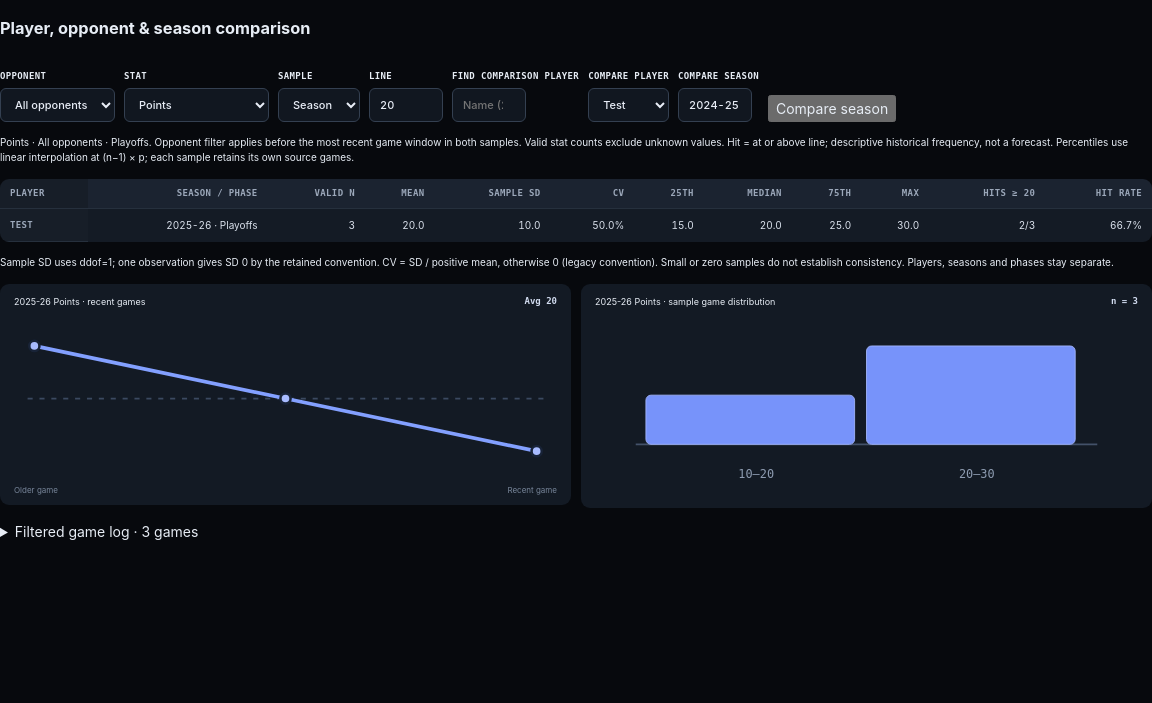
Test: compares another searched player in the same season and preserves their game-log identity
Type "Second" into the search field labelled "Find comparison player".
click(489, 105); type("Second")  # box [452, 88, 526, 122]
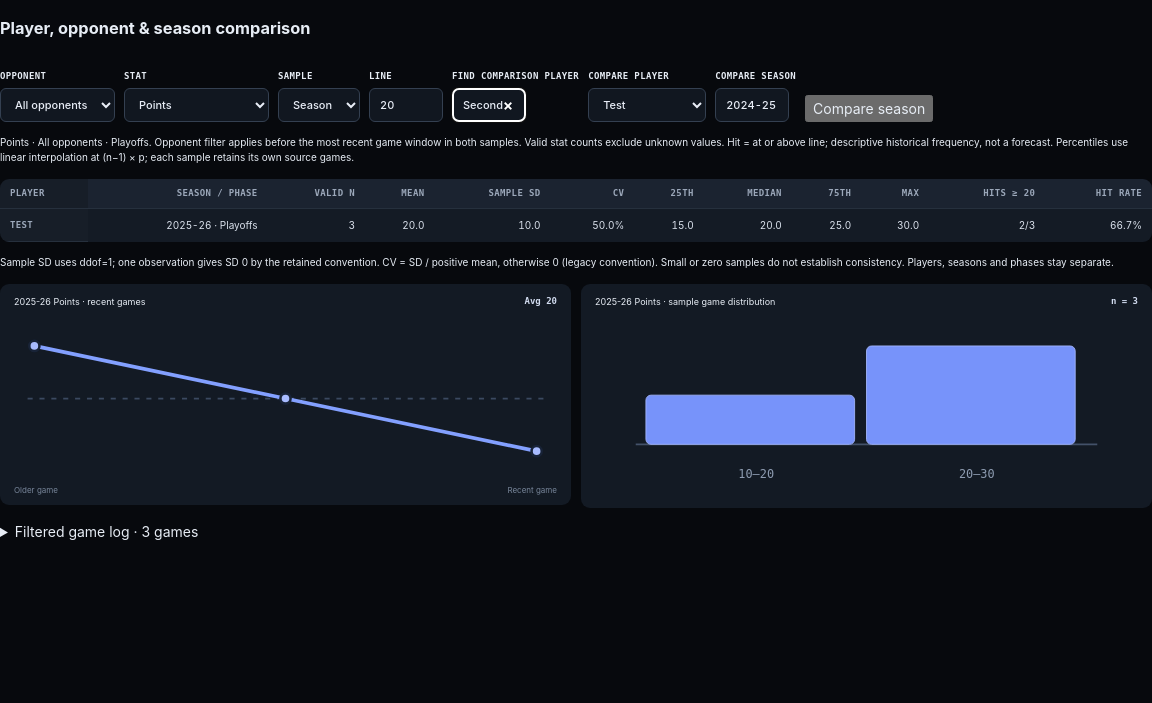
Select "Second Player" in the dropdown named "Comparison player" at (647, 105), box [588, 88, 706, 122]
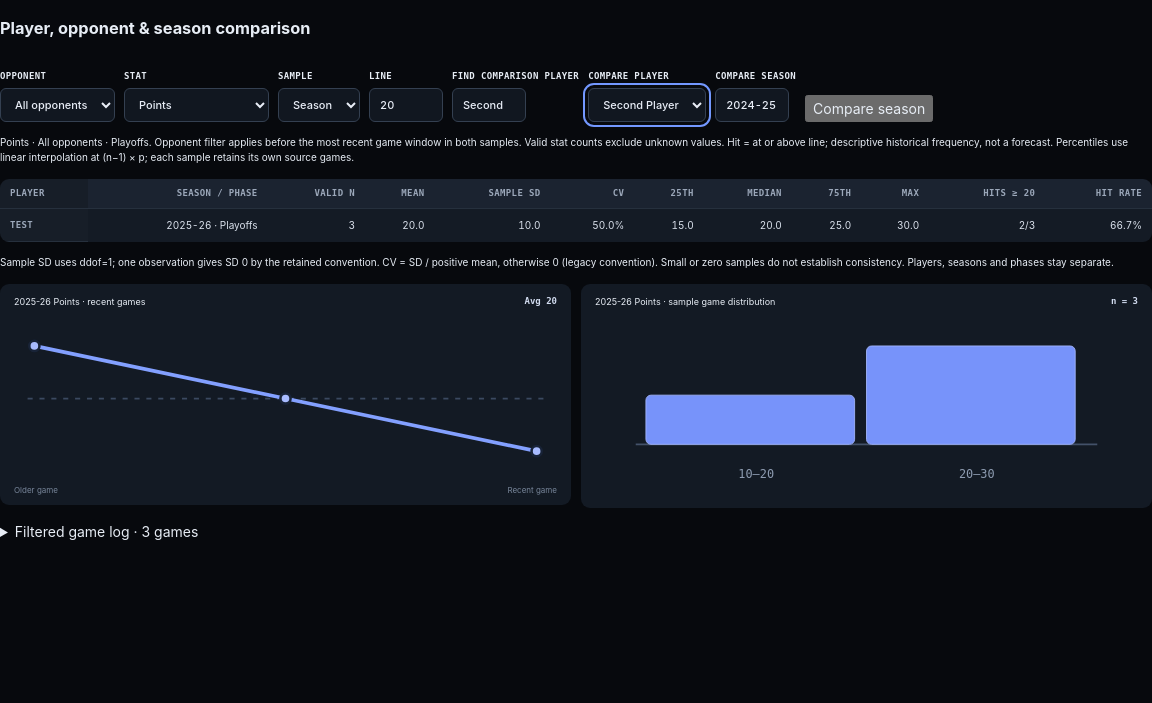
Type "2025-26" into the field named "Comparison season".
click(752, 105); type("2025-26")  # box [715, 88, 789, 122]
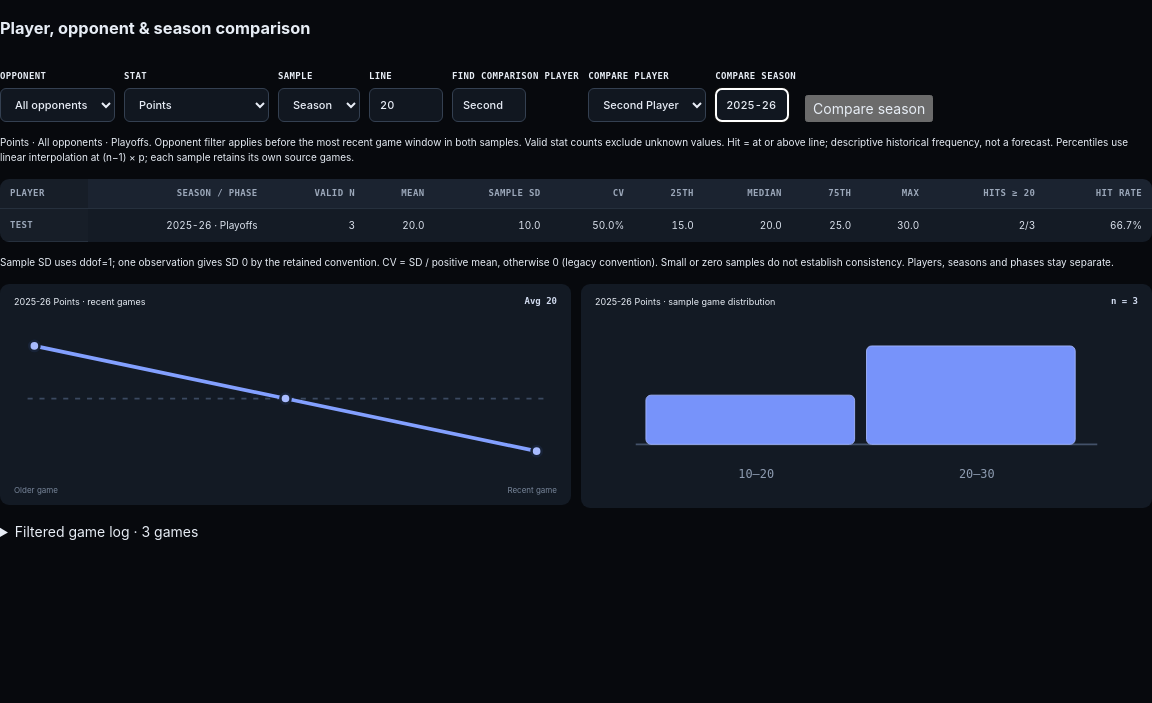
Click the button "Compare season".
click(869, 108)  # box [805, 95, 933, 122]
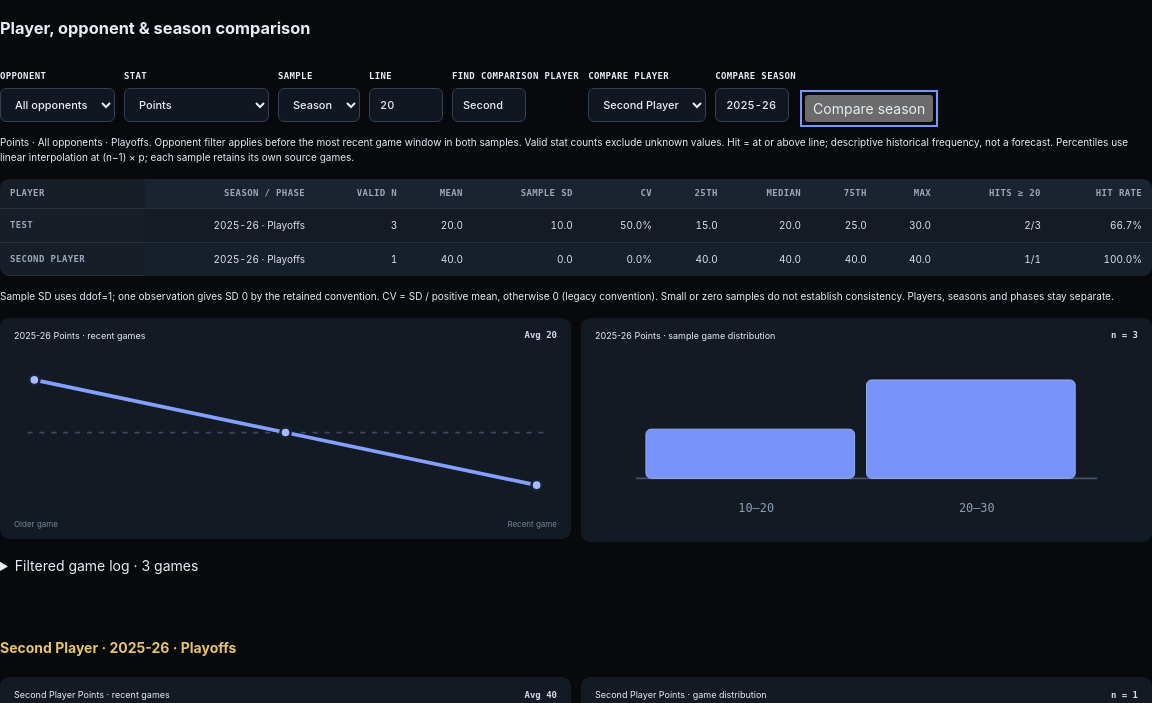
Check: the column heading "Test" is shown, box [0, 208, 145, 242]
Check: the column heading "Second Player" is shown, box [0, 242, 145, 276]
